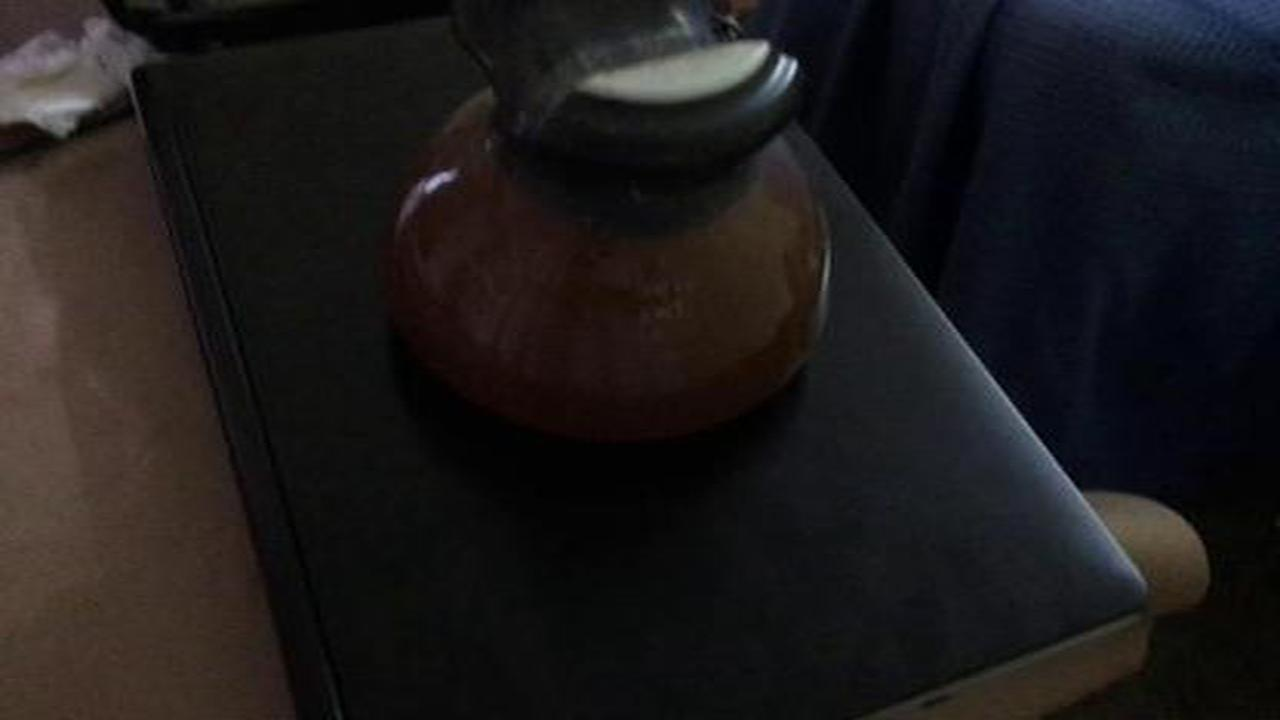insulator_pin: (375, 3, 844, 445)
